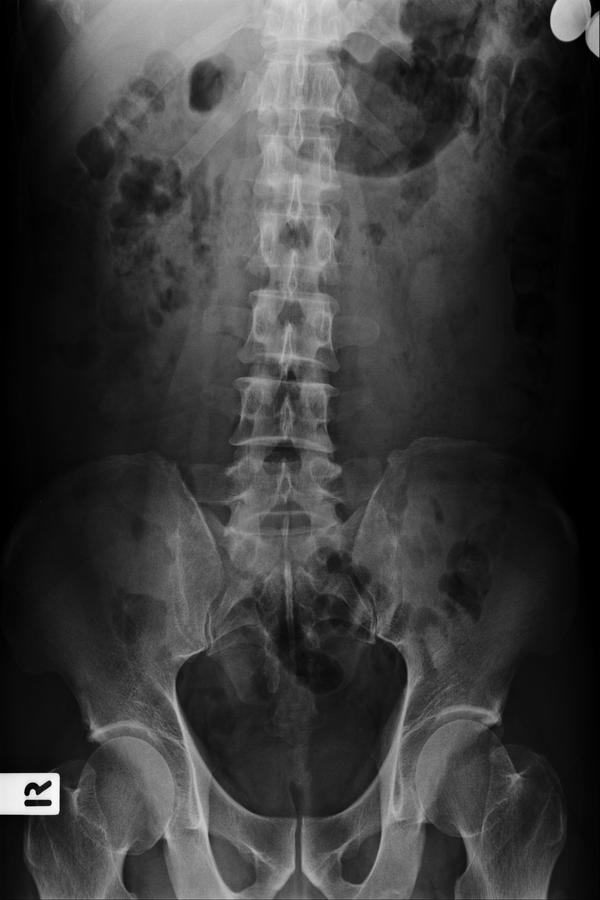lumbar scoliosis: (226, 10, 341, 542)
